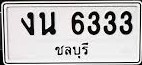txt05: (20, 11, 35, 36)
txt20: (38, 11, 57, 36)
